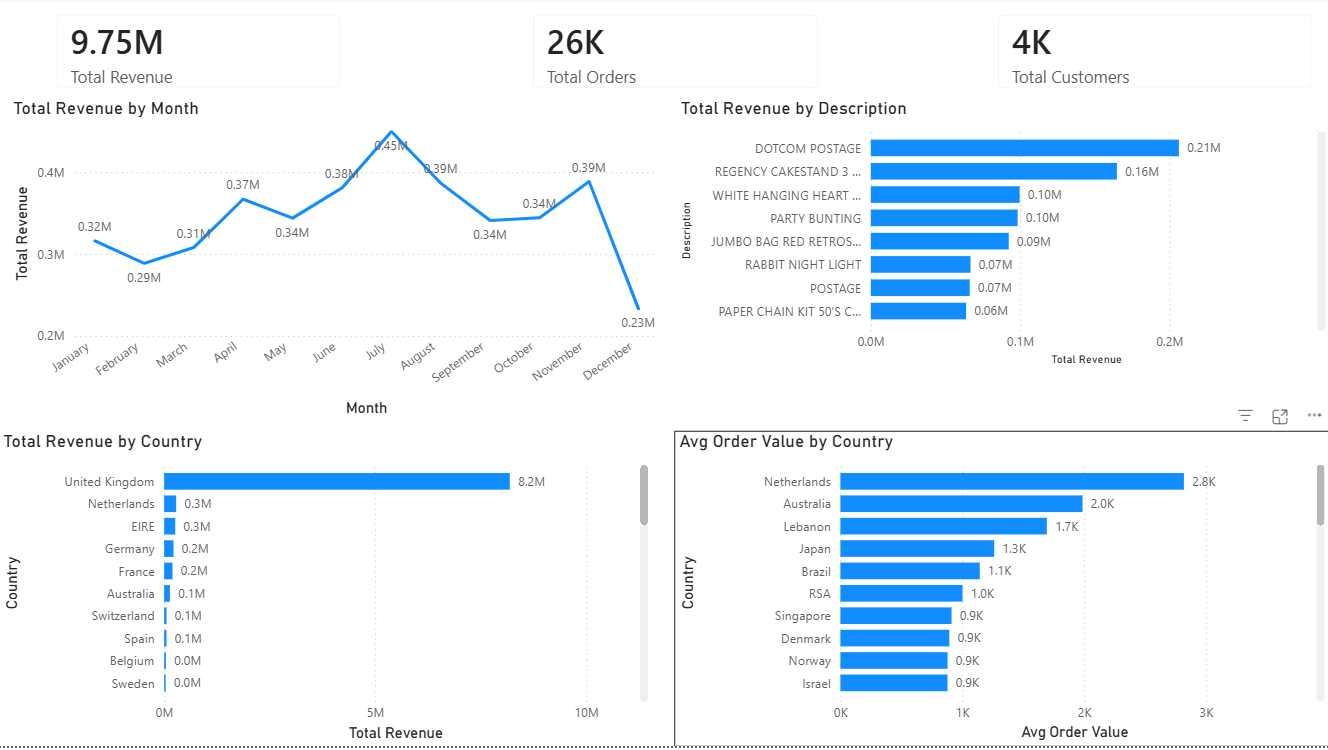

Layout of this report page (visuals, bound fields, positions):
{"tool":"powerbi","page":{"name":"Page 1","canvas":[1280,720],"ordinal":0},"visuals":[{"type":"cardVisual","fields":{"Data":["data.Total Revenue"]},"box":[39.8,0,306,105.7],"z":0},{"type":"cardVisual","fields":{"Data":["data.Total Orders"]},"box":[496.7,0,308.7,105.7],"z":1},{"type":"cardVisual","fields":{"Data":["data.Total Customers"]},"box":[944.1,0,336.2,105.7],"z":2},{"type":"lineChart","fields":{"Category":["data.InvoiceDate.Variation.Date Hierarchy.Month"],"Y":["data.Total Revenue"]},"box":[9.6,96.1,629.8,311.5],"z":3},{"type":"clusteredBarChart","fields":{"Category":["data.Description"],"Y":["data.Total Revenue"]},"box":[650.4,96.1,629.8,263.5],"z":4},{"type":"clusteredBarChart","fields":{"Category":["data.Country"],"Y":["data.Total Revenue"]},"box":[0,417.2,629.8,303.3],"z":5},{"type":"clusteredBarChart","fields":{"Category":["data.Country"],"Y":["data.Avg Order Value"]},"box":[650,417,630,303],"z":6}]}

Visuals, with their boxes in screenshot pixels (x1, y1, x2, y2), scaled from the page's 1280x720 canvas onto the 1328x750 screenshot:
cardVisual - data.Total Revenue: box(41, 0, 359, 110)
cardVisual - data.Total Orders: box(515, 0, 836, 110)
cardVisual - data.Total Customers: box(980, 0, 1327, 110)
lineChart - data.InvoiceDate.Variation.Date Hierarchy.Month x data.Total Revenue: box(10, 100, 663, 425)
clusteredBarChart - data.Description x data.Total Revenue: box(675, 100, 1327, 375)
clusteredBarChart - data.Country x data.Total Revenue: box(0, 435, 653, 749)
clusteredBarChart - data.Country x data.Avg Order Value: box(674, 434, 1327, 749)
